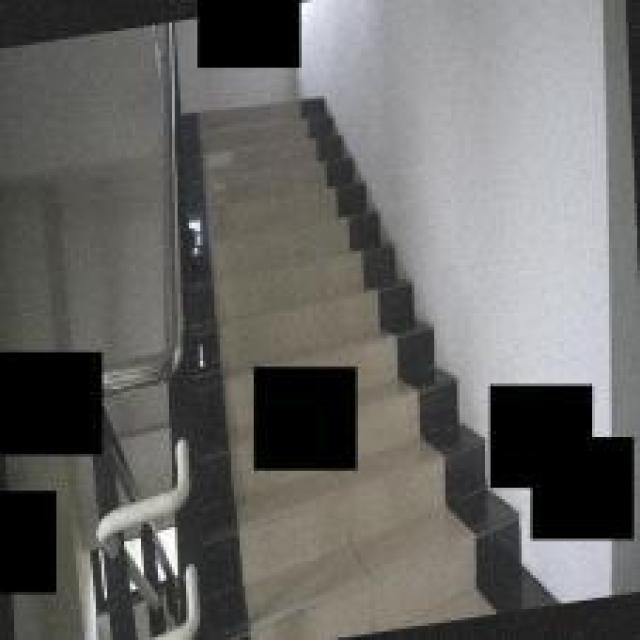upstair: (196, 122, 340, 334)
